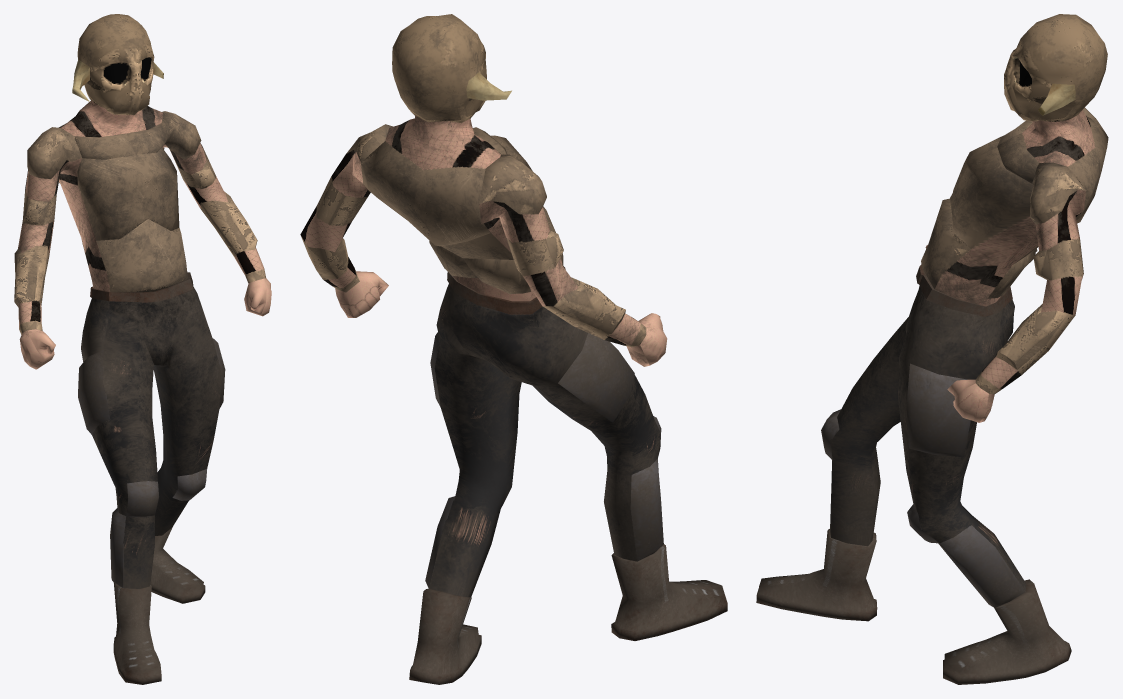
File: Anim_morir_npc1.0030.obj
The picture shows the model from 3 angles, left to right: view 1: azimuth 30°, elevation 25°; view 2: azimuth 150°, elevation 25°; view 3: azimuth 270°, elevation 25°; orthographic projection. The views are drawn at different scales.
Visible parts, largest first — view 1: NPC2; view 2: NPC2; view 3: NPC2.
Part boxes in pixels (<box>): NPC2: <box>14,14,271,684</box>; NPC2: <box>300,14,727,684</box>; NPC2: <box>756,14,1108,684</box>.
Bounding box in the file's own units: 4.29 × 8.87 × 4.41.
